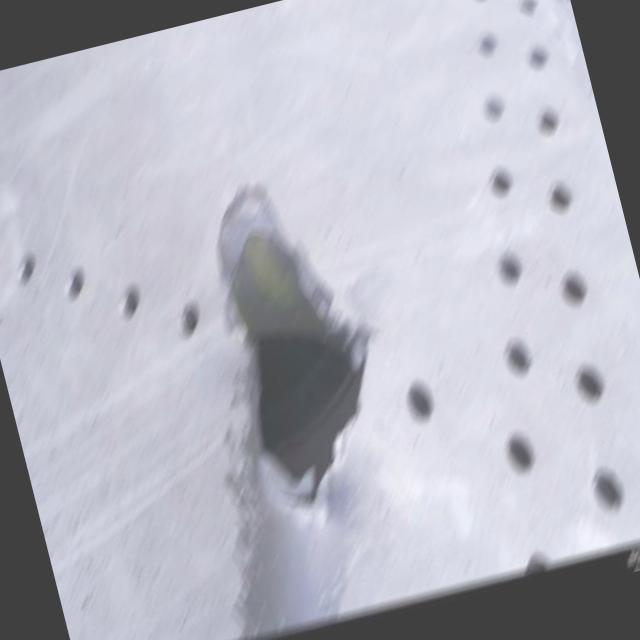crack: (193, 168, 413, 526)
